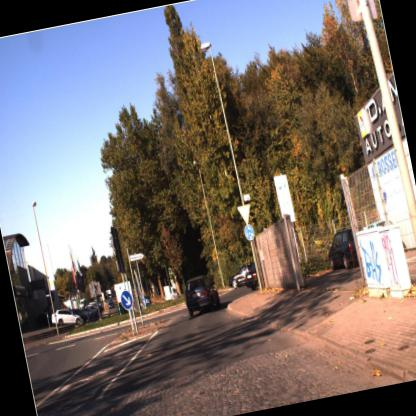mandatory: (116, 285, 135, 316), (240, 220, 258, 243)
other: (232, 195, 254, 226)
